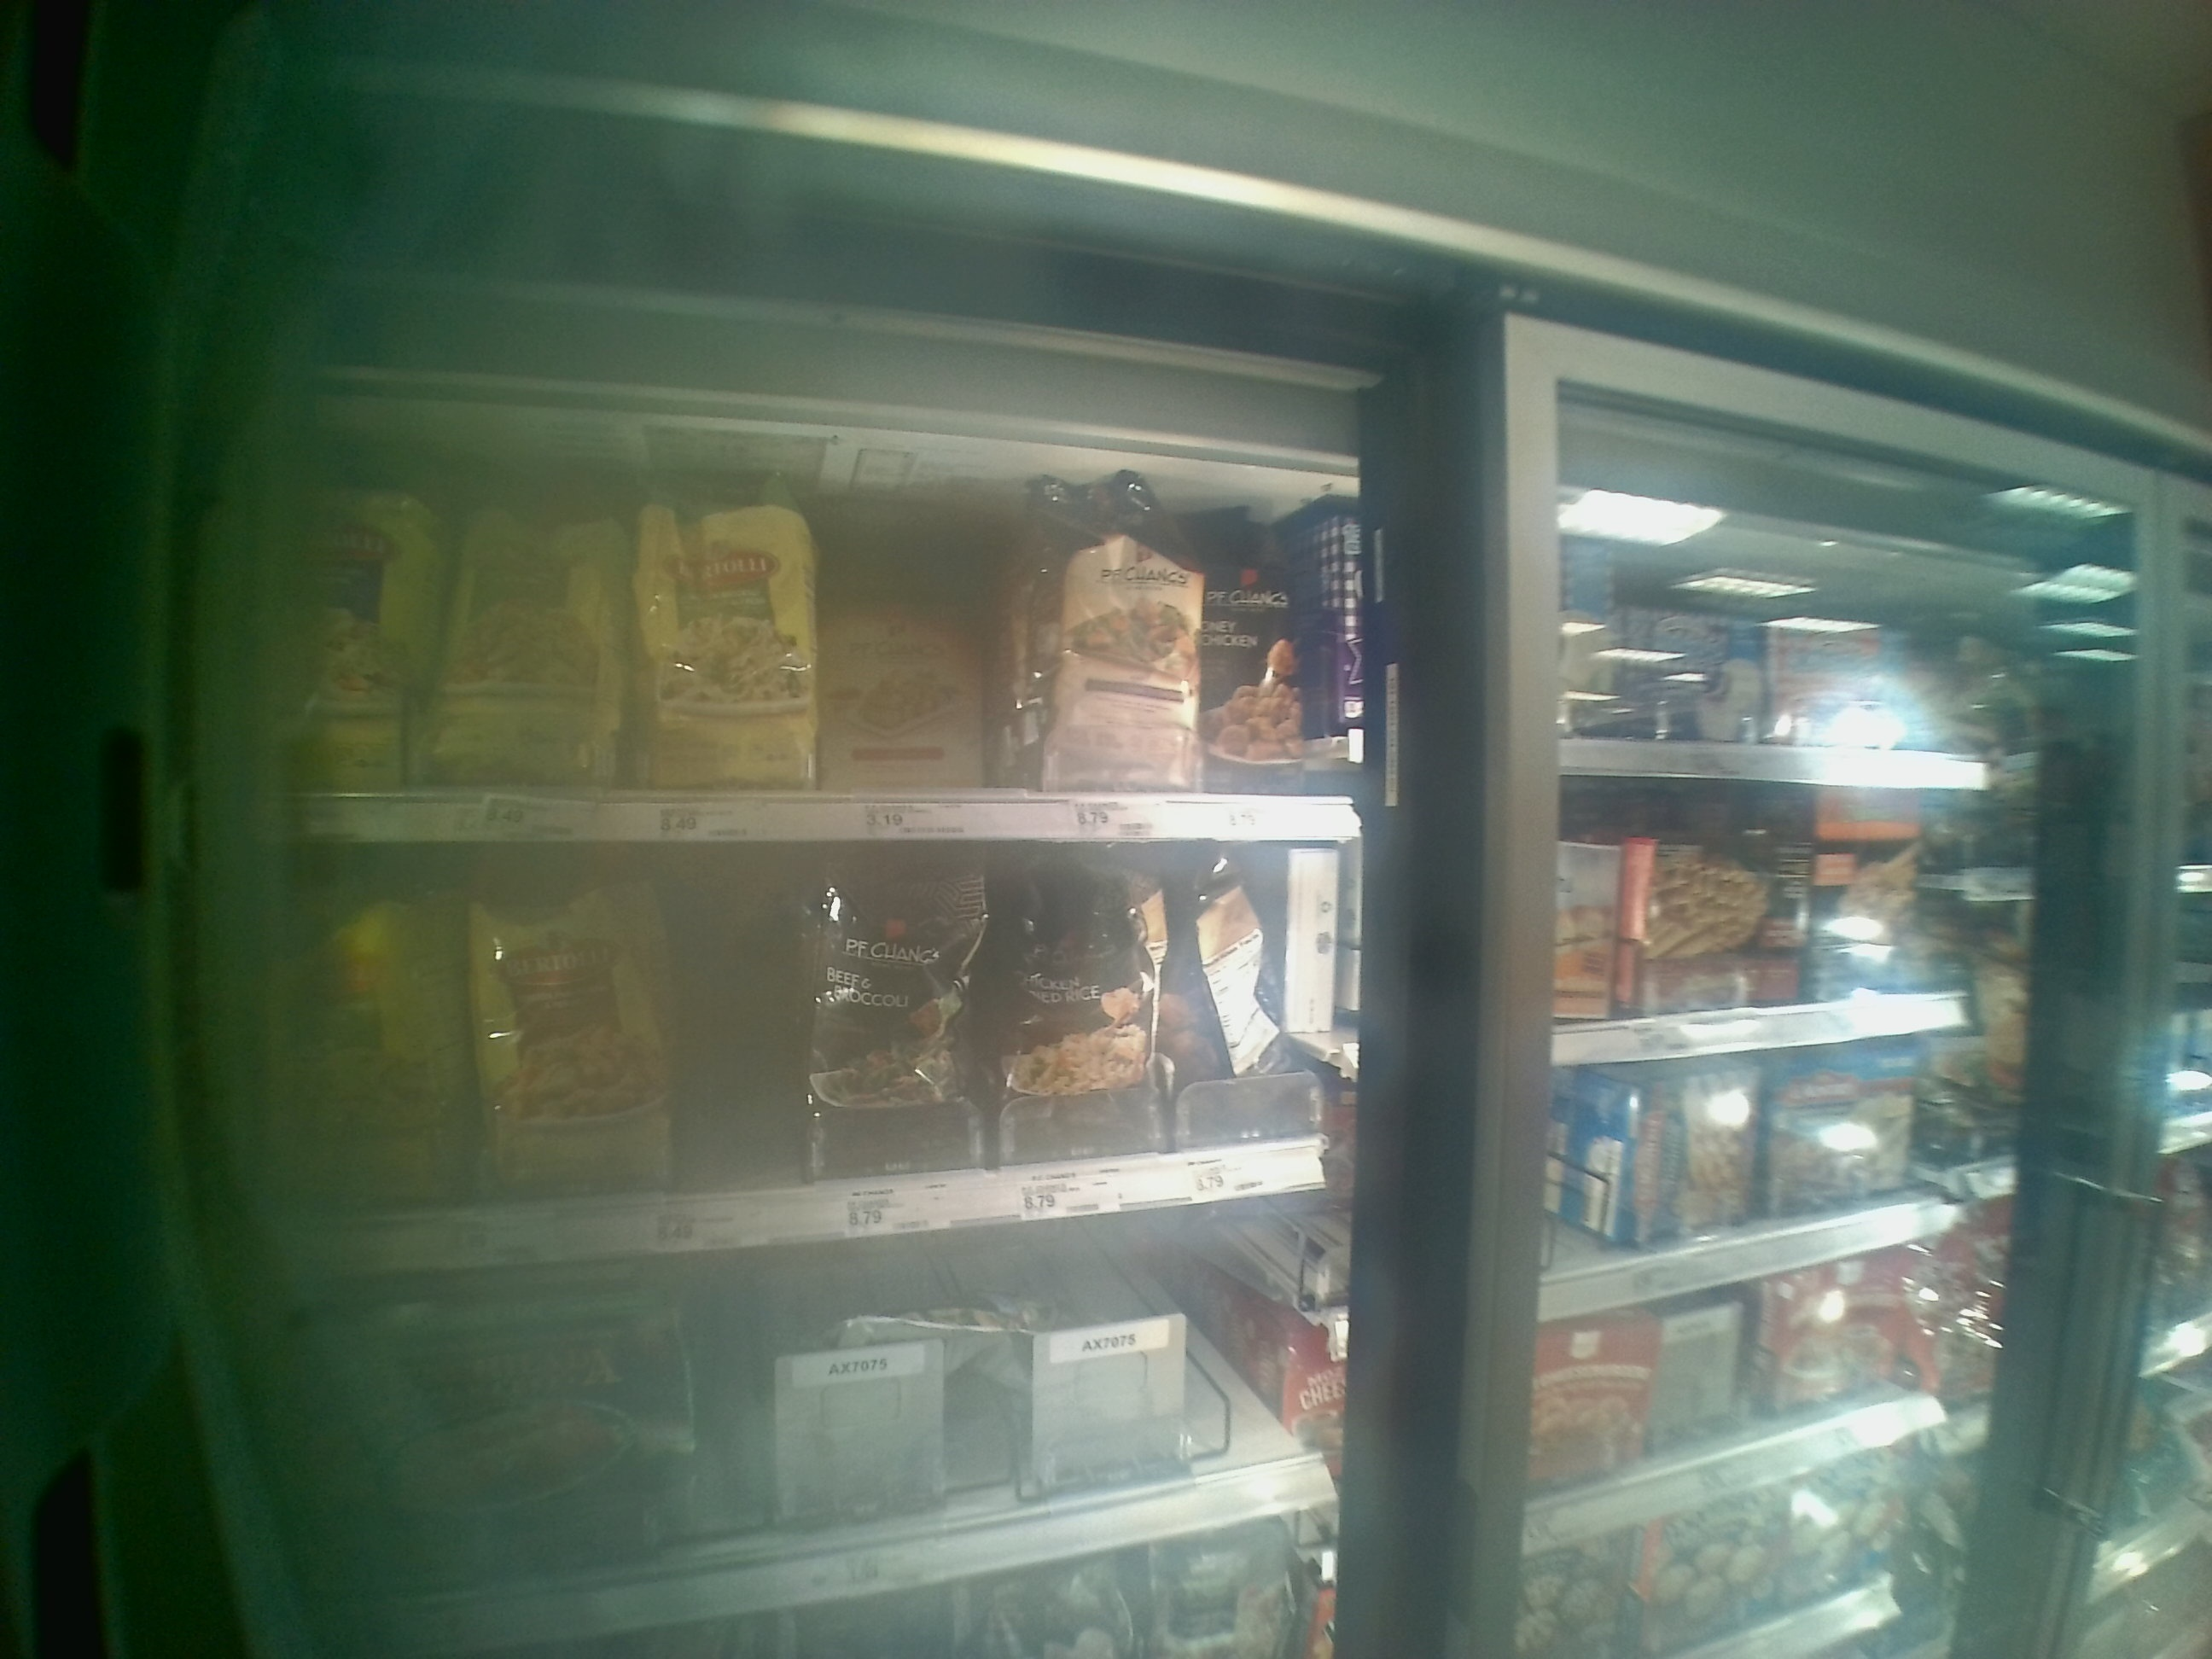frozen-food-shelf: (291, 453, 1325, 847)
